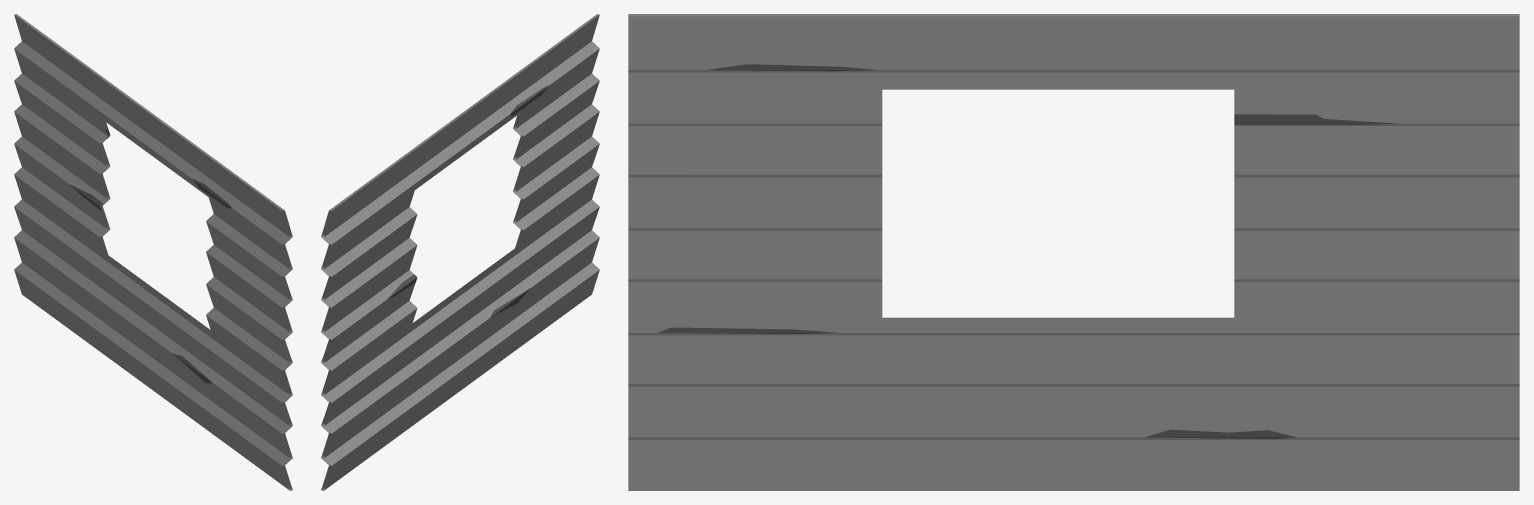
The model's file is builder_22.FBX.
3 views of the same model, side by side, from view 1: azimuth 30°, elevation 25°; view 2: azimuth 150°, elevation 25°; view 3: azimuth 270°, elevation 25° (orthographic). The views are drawn at different scales.
Visible parts, largest first — view 1: builder_22; view 2: builder_22; view 3: builder_22.
Boxes of the visible parts, bbox=[...] form: builder_22: bbox=[14, 14, 292, 490]; builder_22: bbox=[321, 14, 599, 490]; builder_22: bbox=[628, 14, 1519, 490].
Size of the model in its own units: 2.79 by 71.88 by 124.
